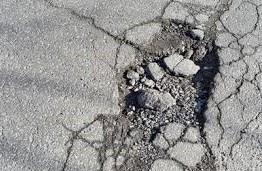alligator-crack: (211, 2, 262, 171), (63, 118, 211, 171)
crack: (110, 20, 223, 129)
